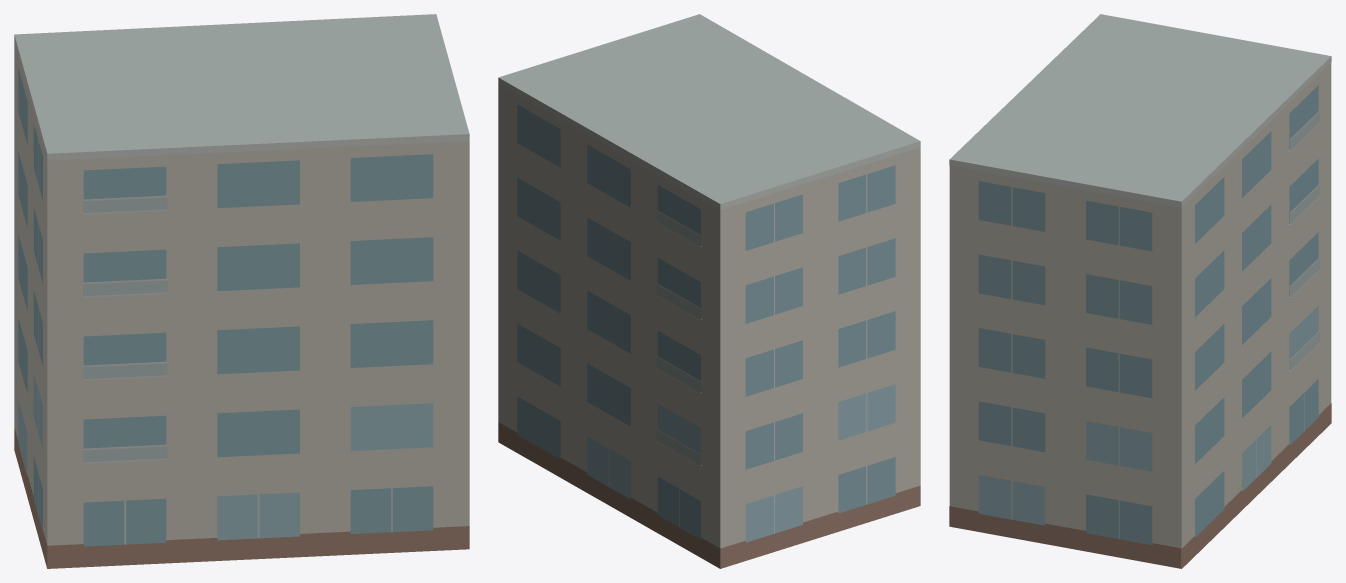
The model's file is survey-upis-32949578.glb.
3 renders of one model, left to right at view 1: azimuth 30°, elevation 25°; view 2: azimuth 150°, elevation 25°; view 3: azimuth 270°, elevation 25°, orthographic. The views are drawn at different scales.
Parts seen in each view (by area): view 1: survey-upis-32949578.tmp; view 2: survey-upis-32949578.tmp; view 3: survey-upis-32949578.tmp.
Boxes of the visible parts, <box> form: survey-upis-32949578.tmp: <box>14,14,469,568</box>; survey-upis-32949578.tmp: <box>498,14,920,568</box>; survey-upis-32949578.tmp: <box>949,14,1331,568</box>.
Size of the model in its own units: 16.02 by 14.6 by 13.77.
